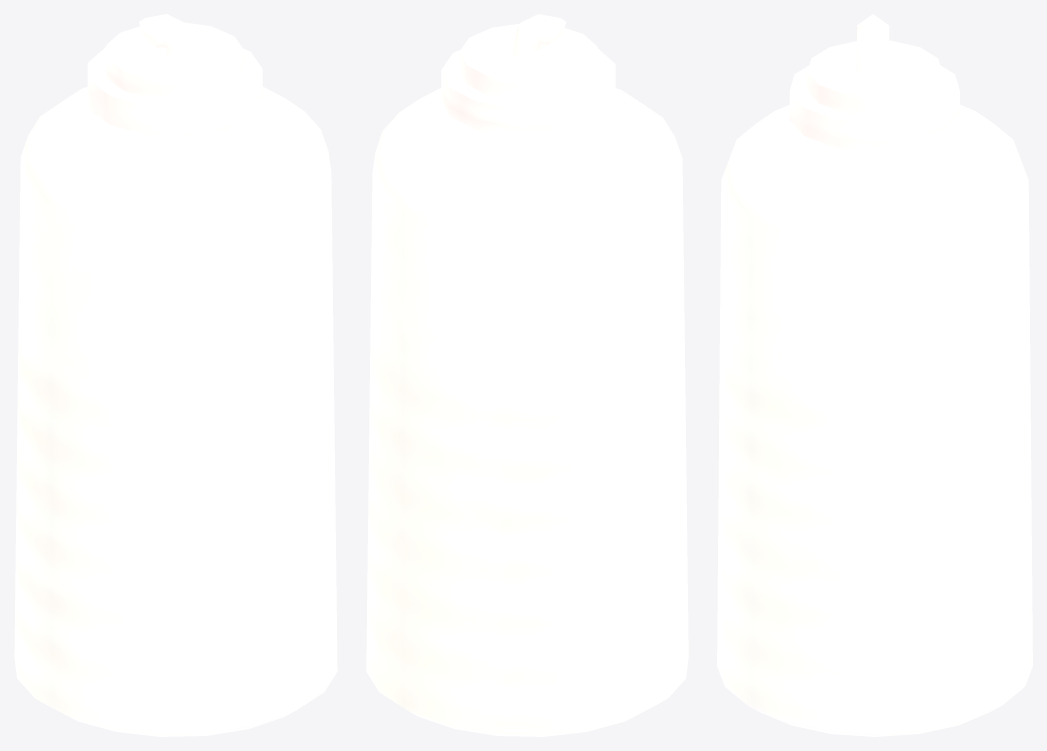
The model's file is stone_jar.glb.
3 views of the same model, side by side, from view 1: azimuth 30°, elevation 25°; view 2: azimuth 150°, elevation 25°; view 3: azimuth 270°, elevation 25° (orthographic). The views are drawn at different scales.
Visible parts, largest first — view 1: defaultMaterial.017; view 2: defaultMaterial.017; view 3: defaultMaterial.017.
Boxes of the visible parts, <box> form: defaultMaterial.017: <box>14,14,337,736</box>; defaultMaterial.017: <box>366,14,688,736</box>; defaultMaterial.017: <box>717,14,1032,736</box>.
Bounding box in the file's own units: 0.1643 × 0.3755 × 0.1643.
1 material, 1 textured.
